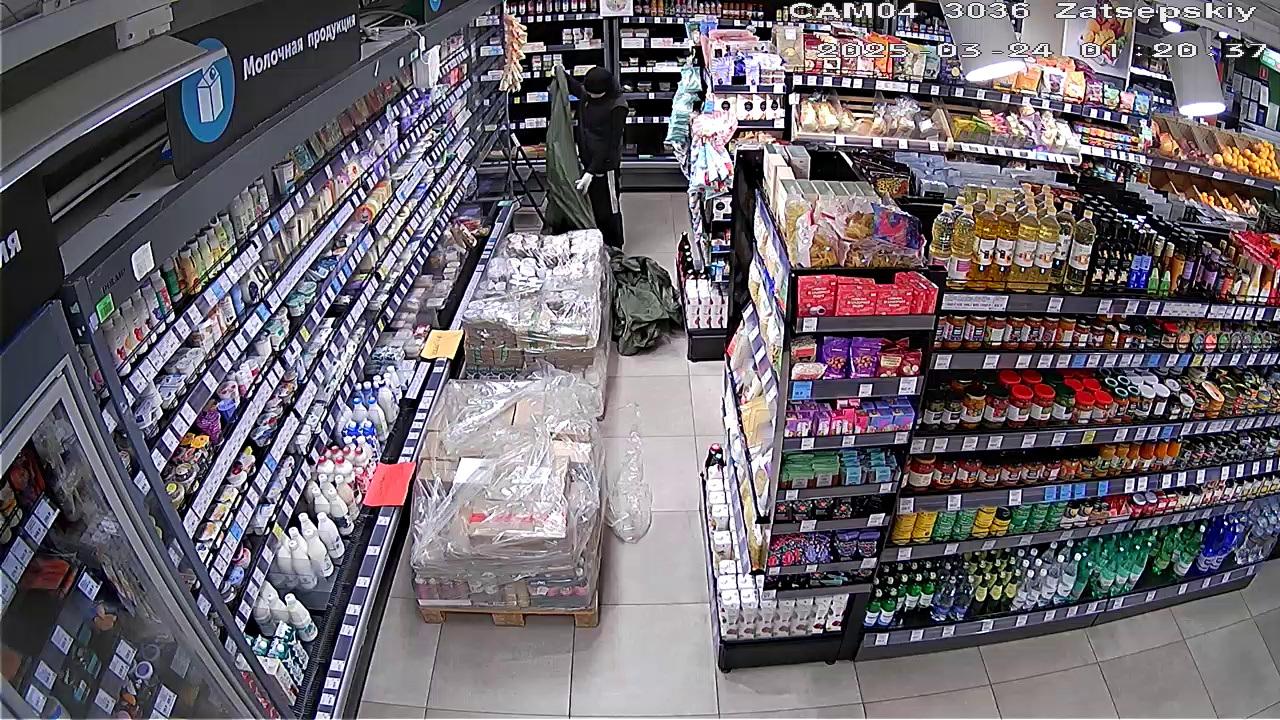Human: (558, 57, 634, 229)
pallet: (415, 372, 601, 622), (468, 223, 603, 378)
